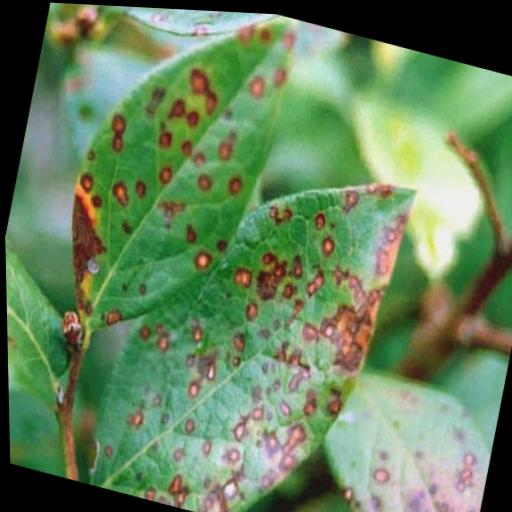Septoria: (72, 107, 427, 512), (33, 1, 301, 365), (294, 347, 502, 512)
